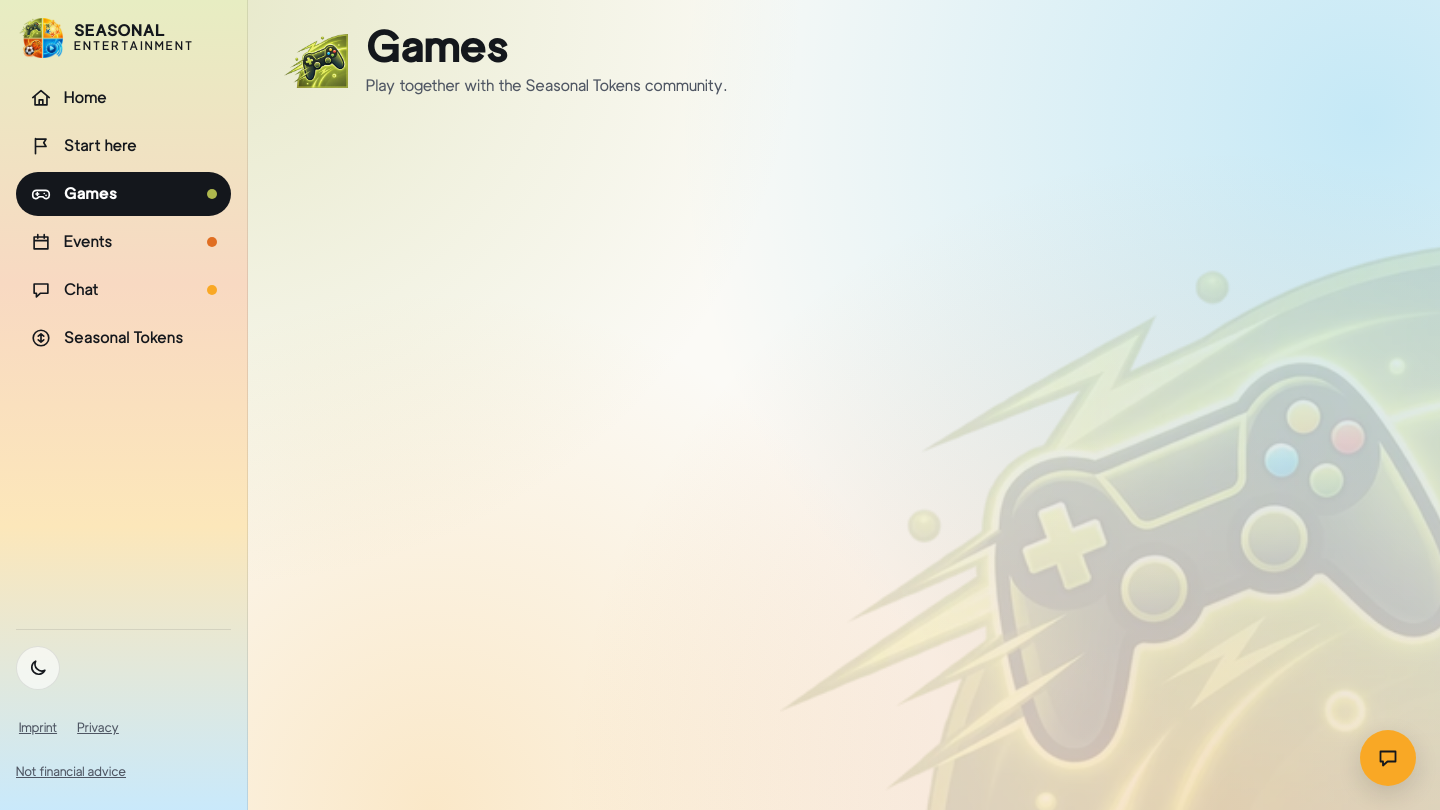
Scenario: the drawer › the room picker switches the room, by keyboard; Escape closes only the list
Step 1. Click the button named "Chat" → (1388, 758), box [1360,730,1416,786]
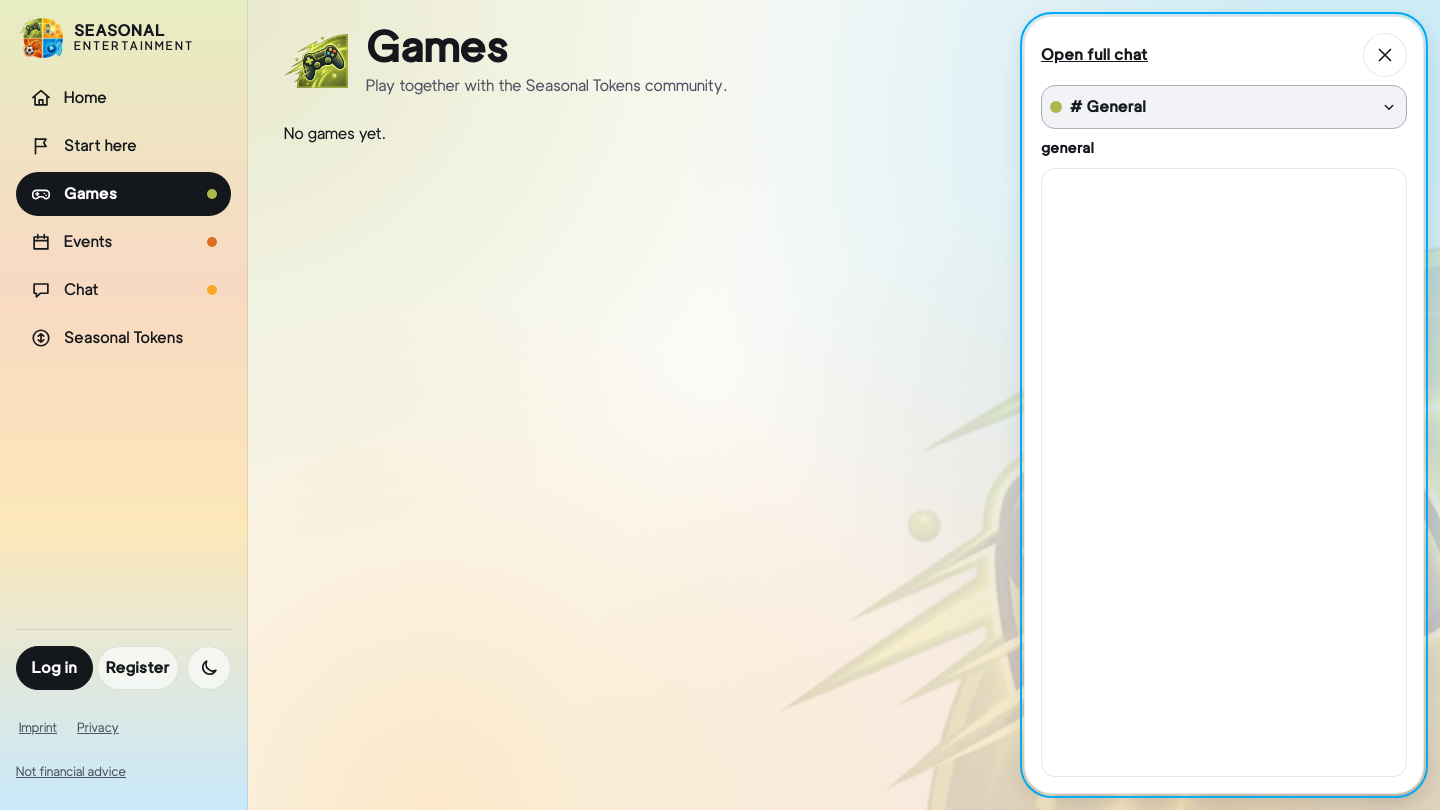
Step 2. Press ArrowDown in the button with aria-label "Room: General", box [1041,85,1407,129]
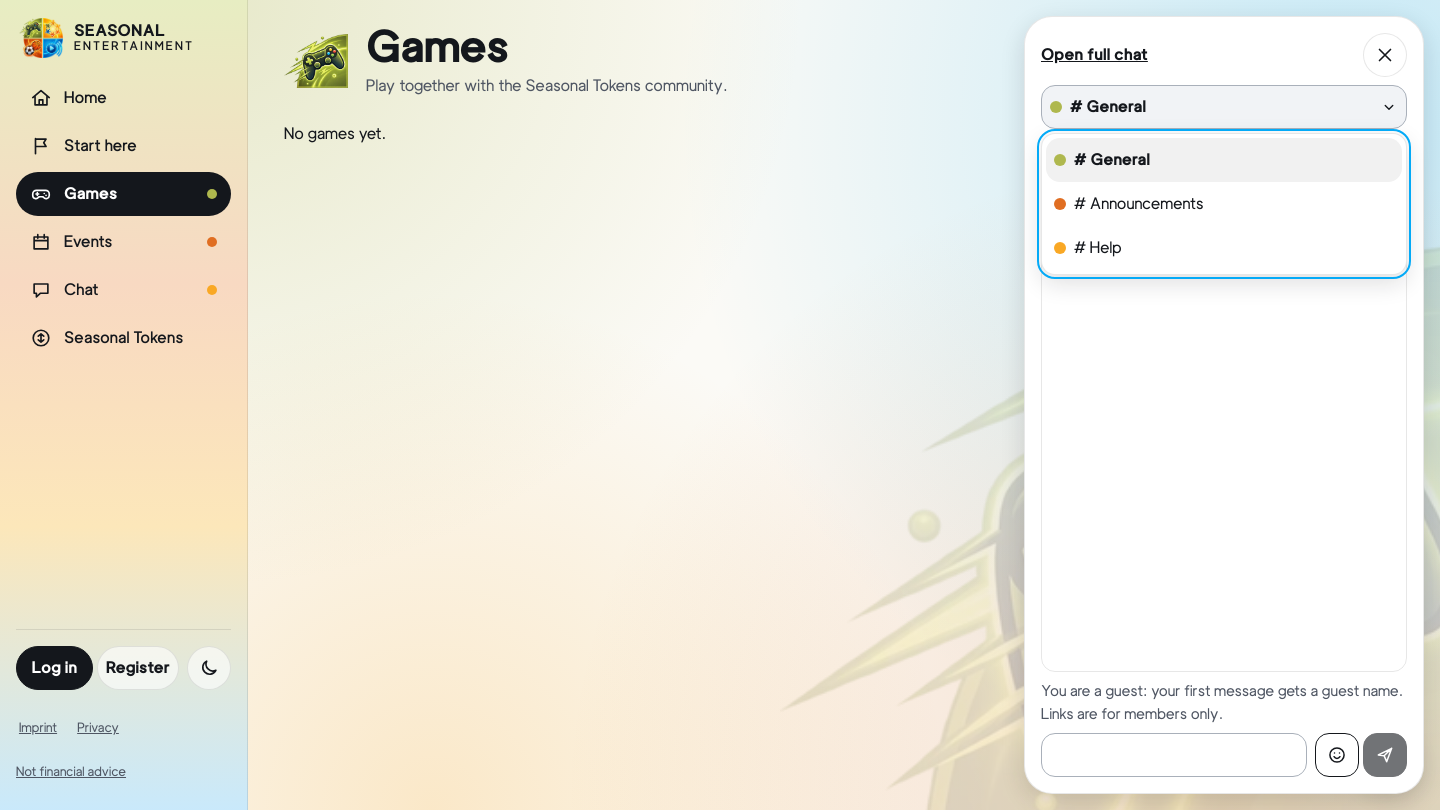
Step 3. Press End in the list named "Rooms", box [1041,133,1407,275]
Step 4. Press ArrowUp in the list named "Rooms", box [1041,133,1407,275]
Step 5. Press Enter in the list named "Rooms", box [1041,133,1407,275]
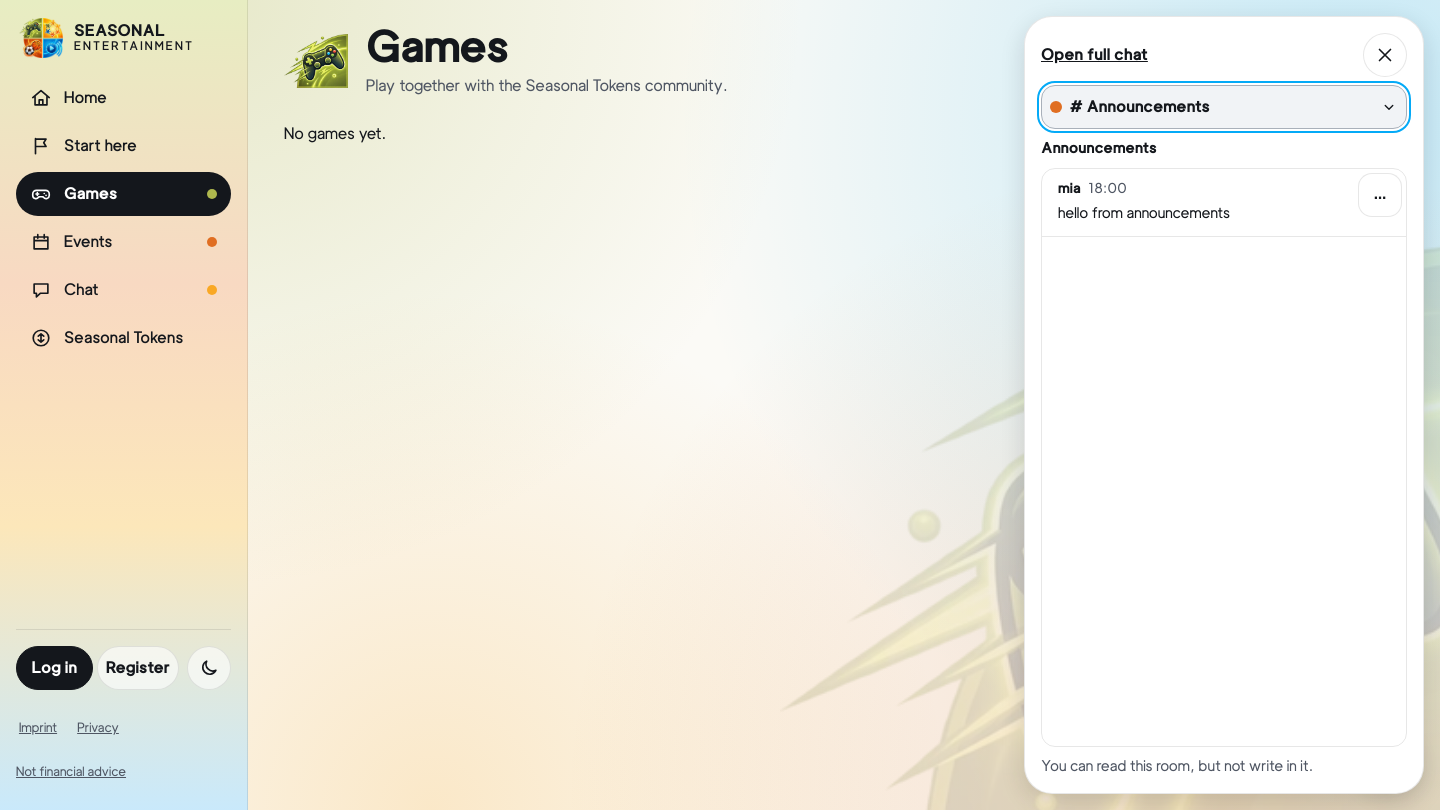
expect the list "# General # Announcements # Help" is gone: met
expect the text "hello from announcements" is shown: met, box [1058,204,1230,222]
Step 6. Click the button with aria-label "Room: Announcements" → (1148, 106), box [1041,85,1407,129]
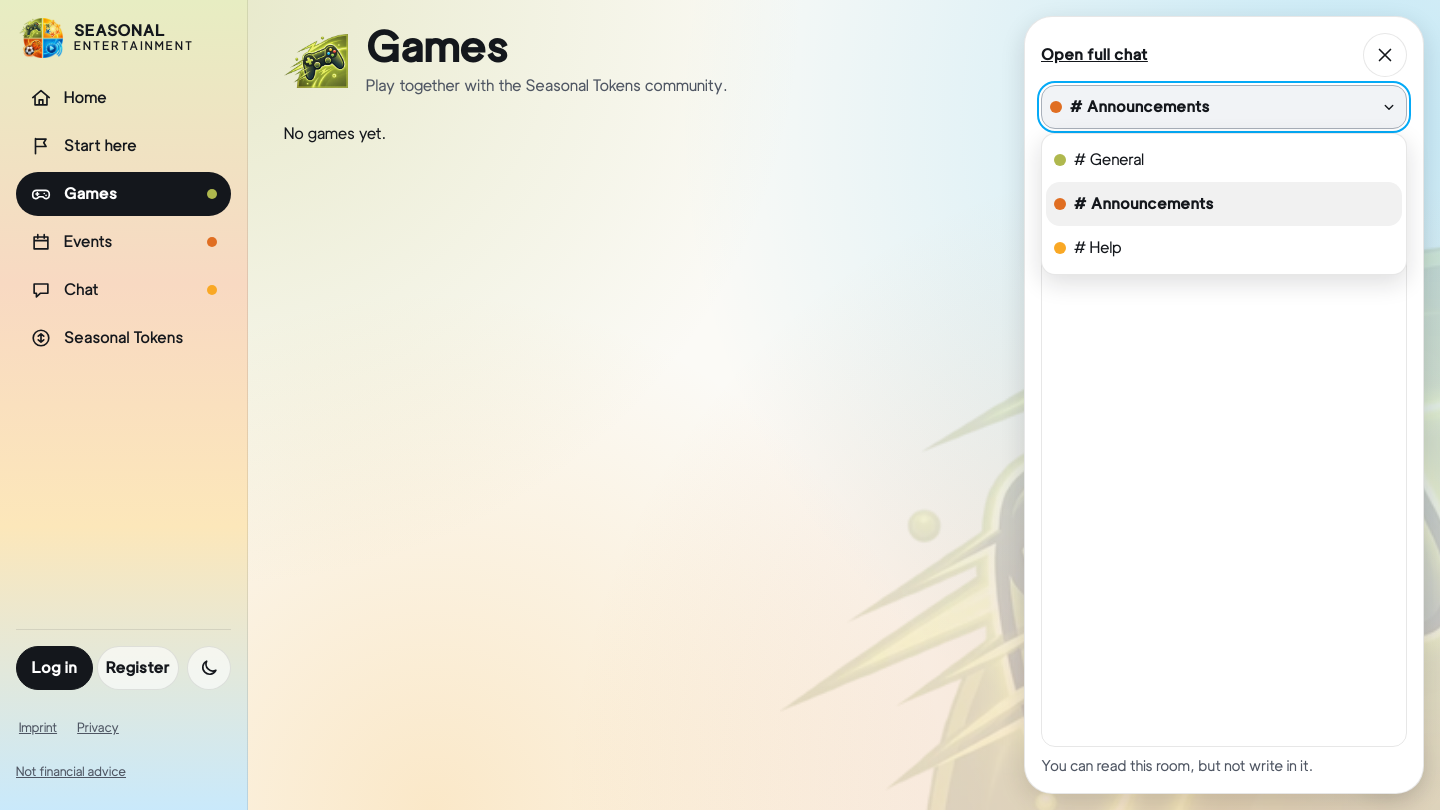
Step 7. Press Escape in the list "# General # Announcements # Help", box [1041,133,1407,275]
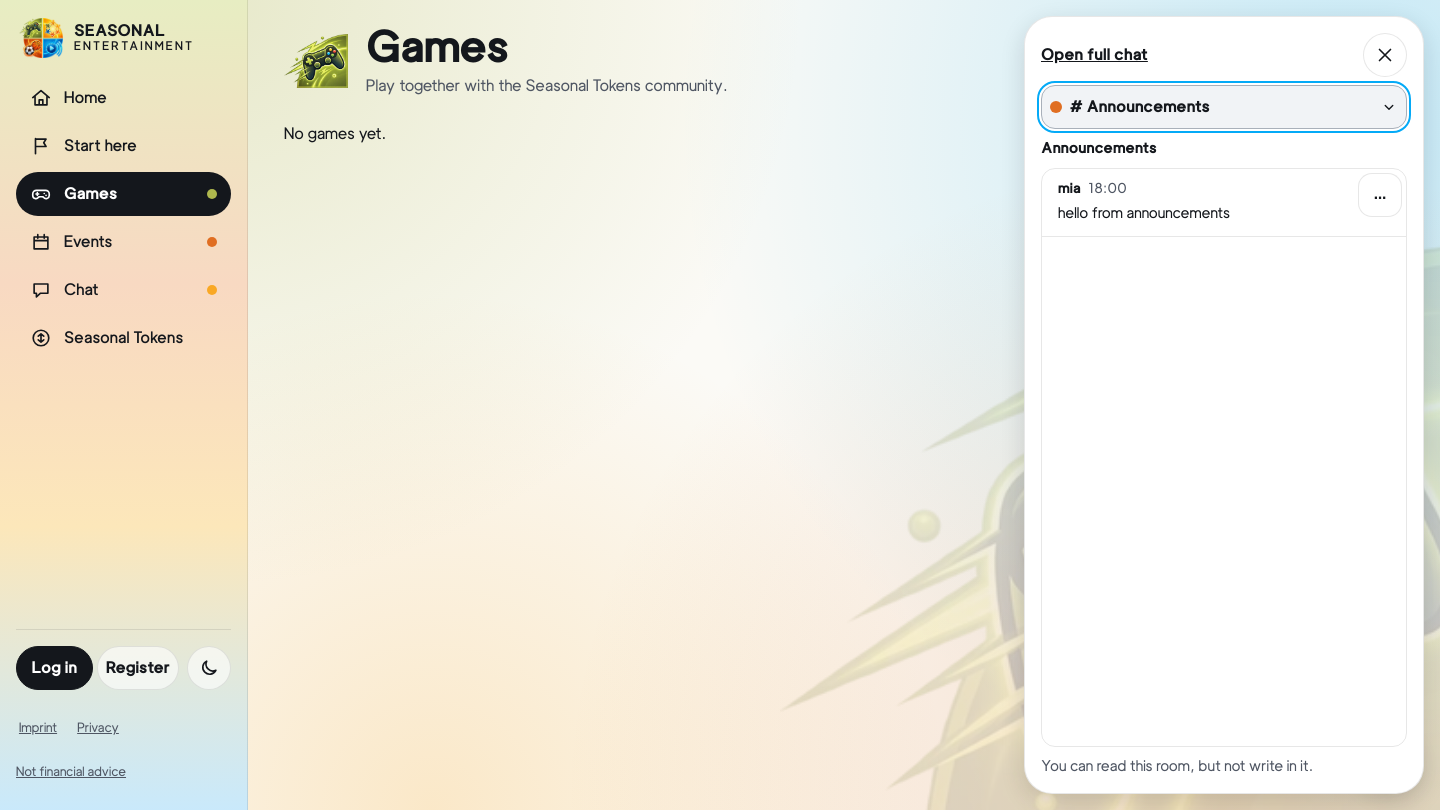
expect the dialog "chat" is shown: met, box [1024,16,1424,794]
expect the list "# General # Announcements # Help" is gone: met
